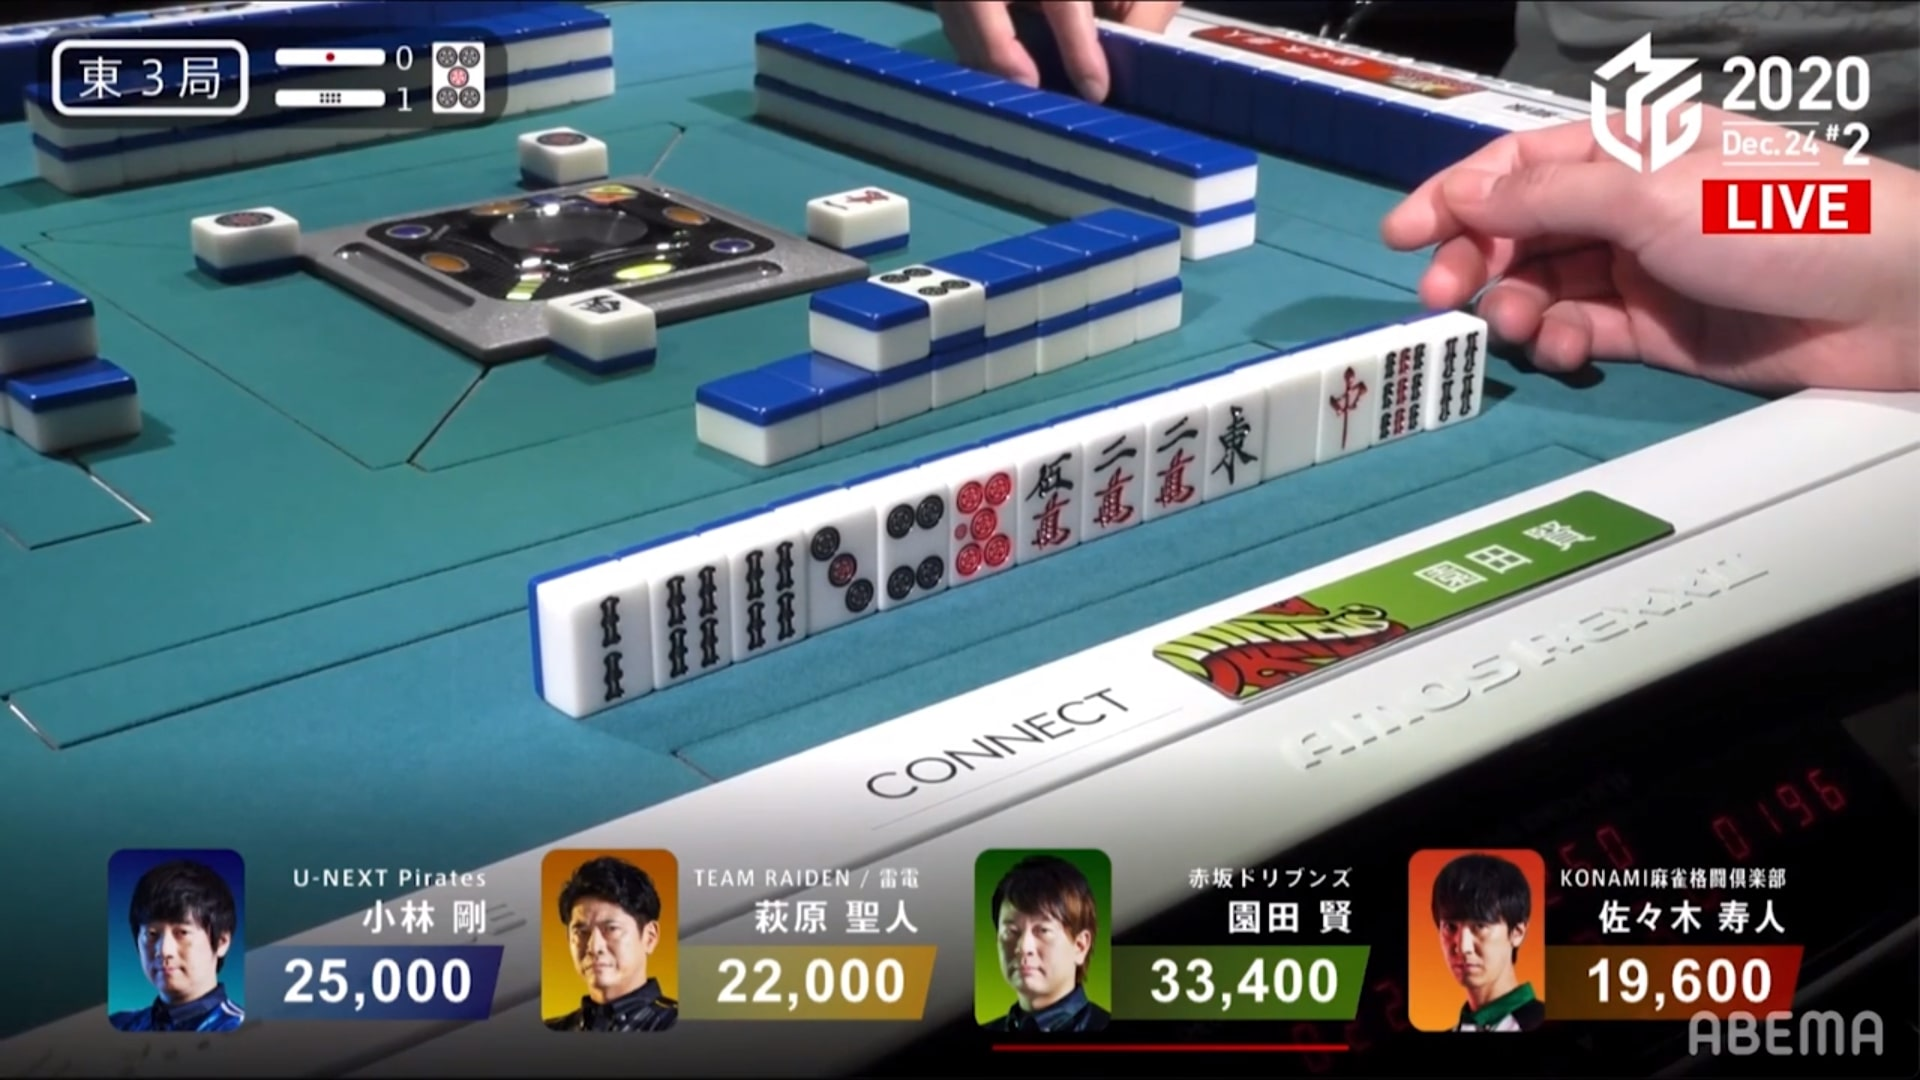2m: (1147, 410, 1200, 512), (1095, 431, 1141, 533)
2s: (562, 583, 647, 704)
3p: (800, 517, 880, 624)
4p: (878, 492, 952, 601)
4s: (647, 559, 729, 679), (731, 541, 804, 647), (1429, 328, 1484, 421)
5m: (1018, 450, 1073, 560)
5pr: (949, 468, 1017, 582)
9s: (1378, 342, 1422, 443)
chun: (1320, 357, 1370, 454)
haku: (1263, 378, 1315, 472)
hand_ton_3: (41, 26, 260, 115)
round_1: (273, 79, 419, 111)
team_drivens: (1149, 564, 1455, 704)
ton: (1205, 400, 1262, 496)
